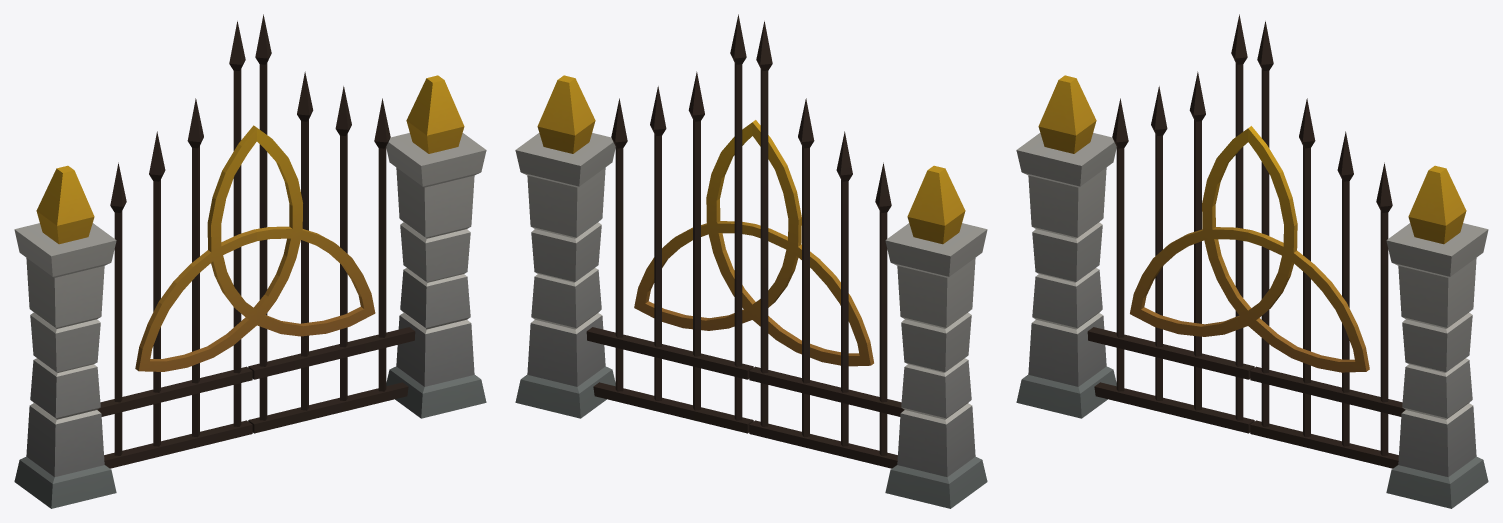
File: Gates.fbx
The picture shows the model from 3 angles, left to right: view 1: azimuth 30°, elevation 25°; view 2: azimuth 150°, elevation 25°; view 3: azimuth 330°, elevation 25°; orthographic projection.
Visible parts, largest first — view 1: Collumns, Door_left, Door_right; view 2: Collumns, Door_left, Door_right; view 3: Collumns, Door_right, Door_left.
Boxes of the visible parts, x1=… form: Collumns: x1=14, y1=75, x2=486, y2=508; Door_left: x1=97, y1=21, x2=256, y2=468; Door_right: x1=248, y1=14, x2=415, y2=433; Collumns: x1=515, y1=75, x2=987, y2=508; Door_left: x1=749, y1=21, x2=904, y2=468; Door_right: x1=586, y1=14, x2=755, y2=433; Collumns: x1=1016, y1=75, x2=1488, y2=508; Door_right: x1=1248, y1=21, x2=1405, y2=468; Door_left: x1=1087, y1=14, x2=1254, y2=433.
Bounding box in the file's own units: 4 × 3.73 × 0.5872.
